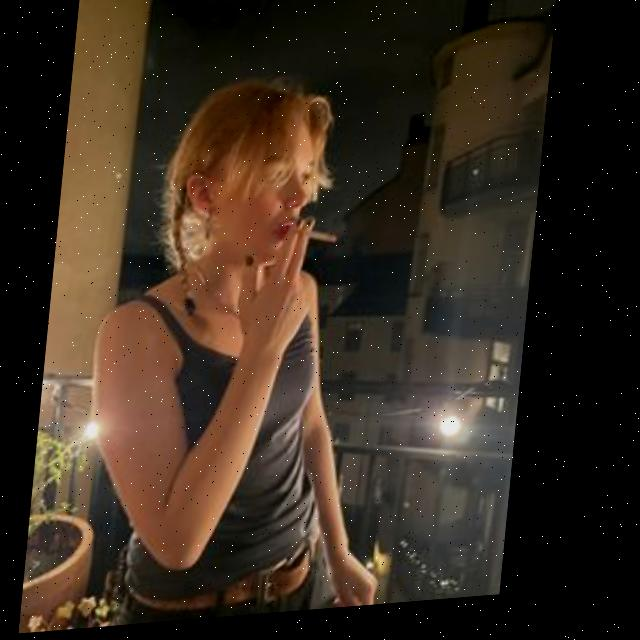cigarette: (297, 231, 343, 253)
